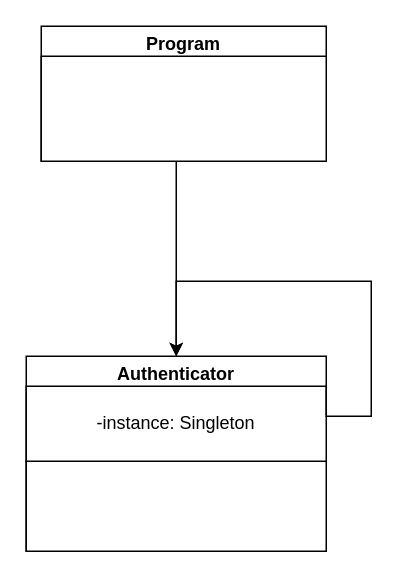
Some shapes in this 410 by 578 pixel diagram are drawn without their labels. The centre of each missing label's shape, as x and y in pixels:
-Authenticator() +GeInstance() : Authenticator: (x=175, y=505)
user1 : AunAuthenticator.GetInstance(): (x=183, y=108)
